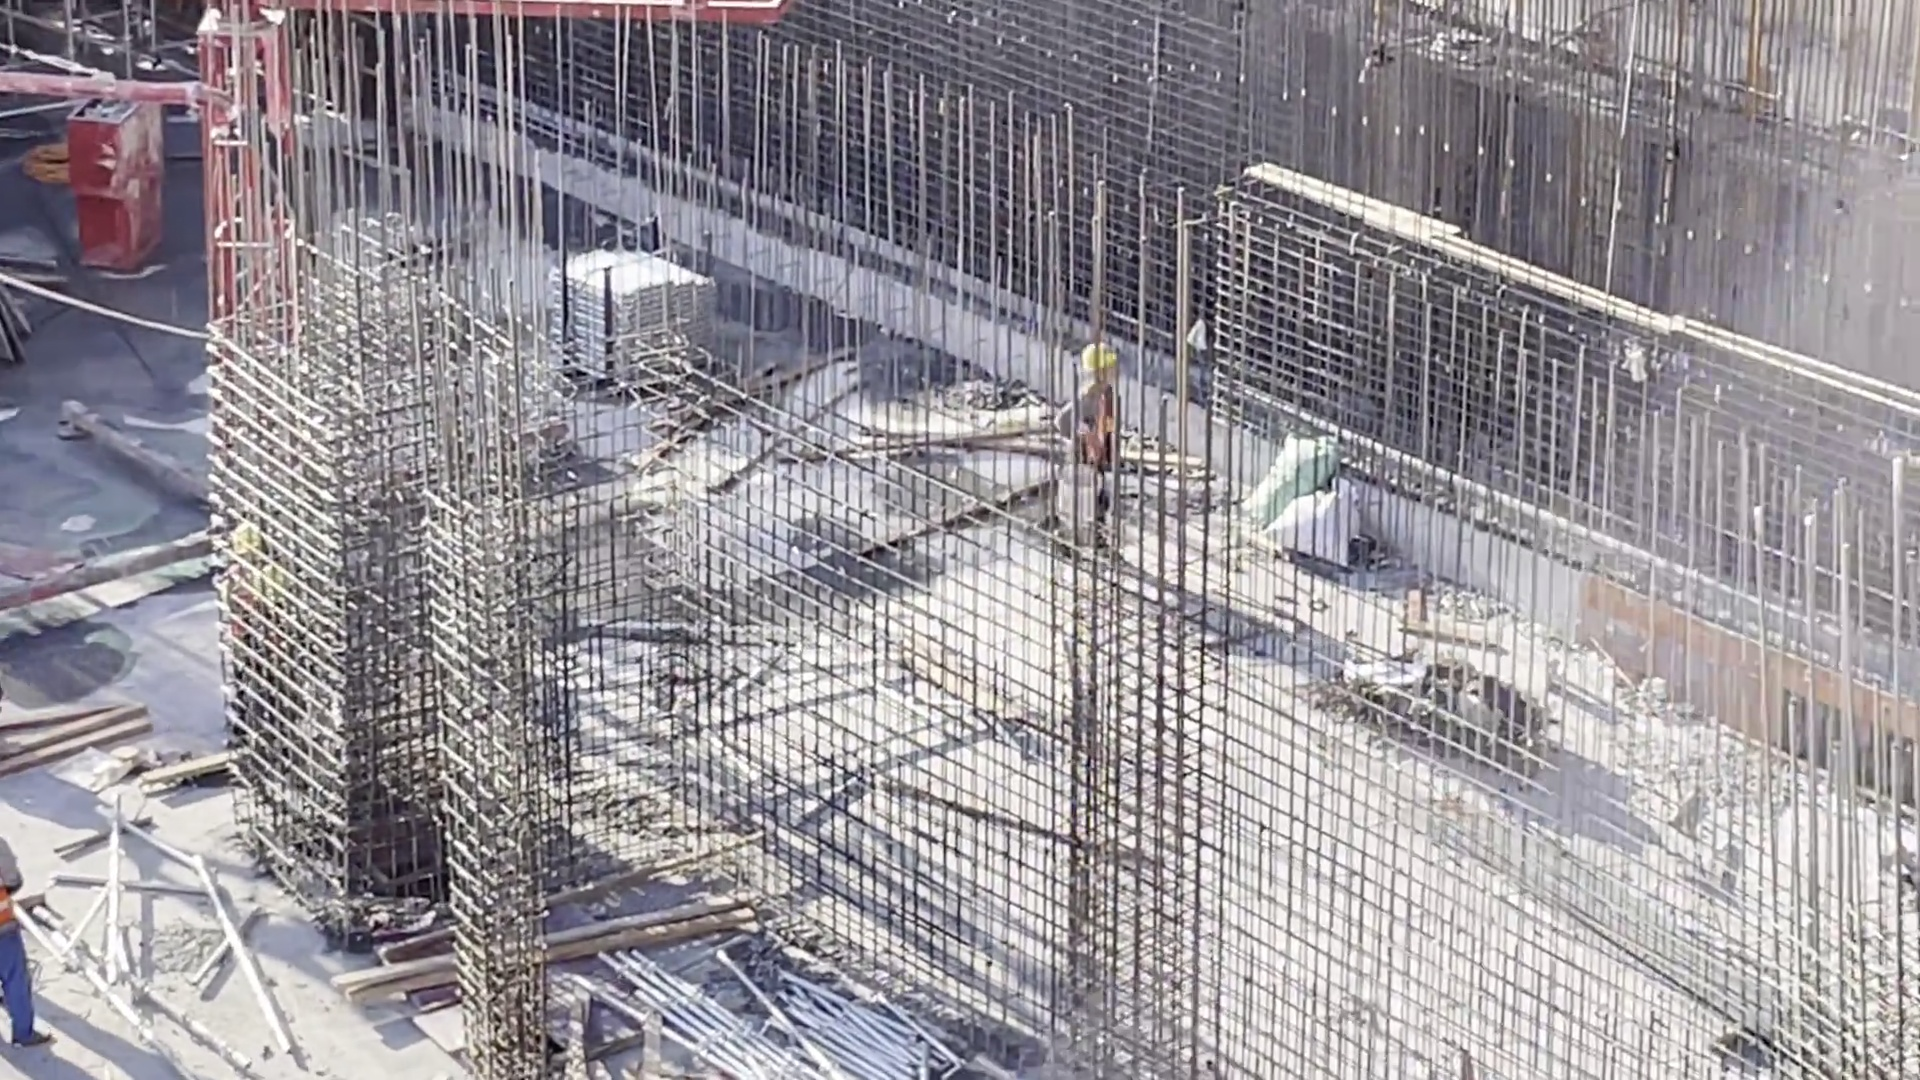helmet: (1066, 331, 1130, 368)
person: (1023, 338, 1137, 568)
scaffold: (639, 914, 909, 1080), (548, 224, 726, 440)
vest: (1059, 379, 1117, 475)
